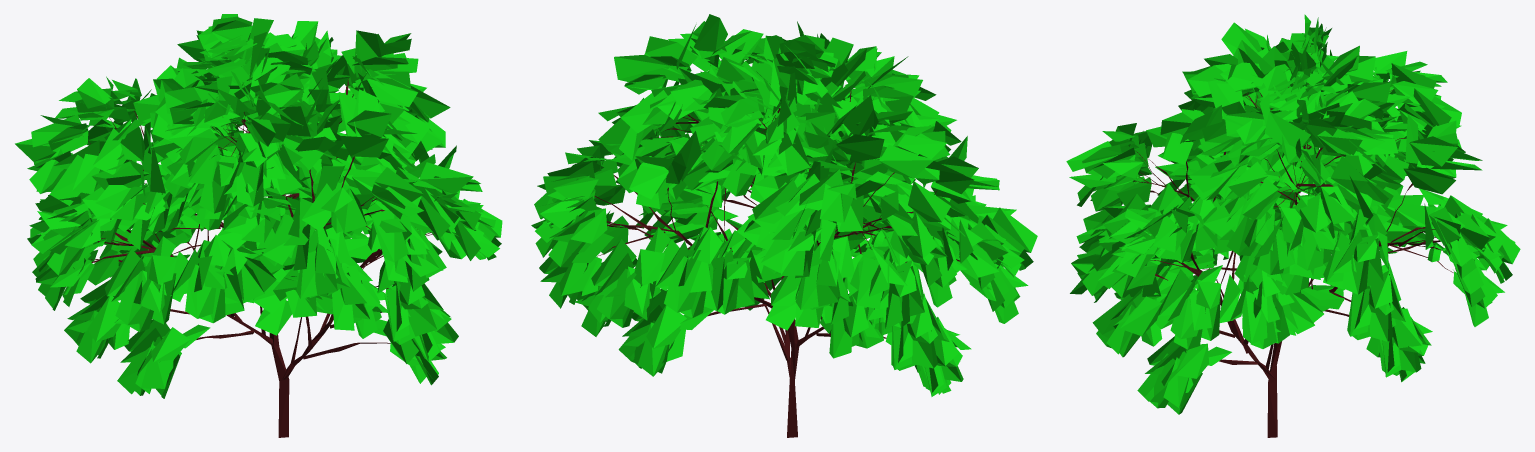
File: Tree02.fbx
3 views of the same model, side by side, from view 1: azimuth 30°, elevation 25°; view 2: azimuth 150°, elevation 25°; view 3: azimuth 270°, elevation 25° (orthographic). The views are drawn at different scales.
Parts seen in each view (by area): view 1: trunk.002; view 2: trunk.002; view 3: trunk.002.
Boxes of the visible parts, x1,y1,x2,y2 form: trunk.002: [15, 14, 502, 437]; trunk.002: [531, 14, 1037, 437]; trunk.002: [1066, 14, 1520, 437].
Bounding box in the file's own units: 456 × 432 × 446.
